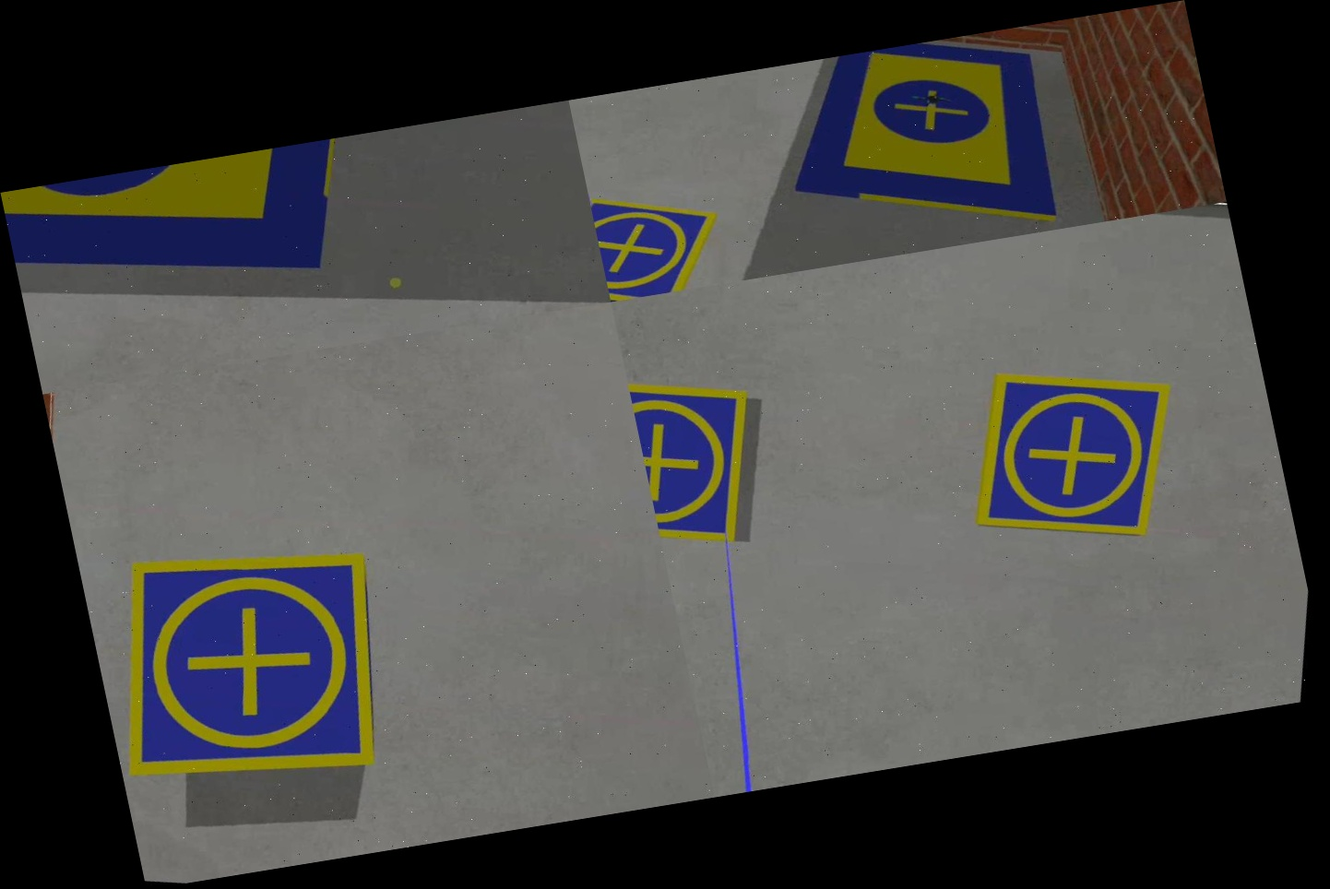large_base: (766, 19, 1107, 262), (1, 132, 404, 329)
small_base: (75, 497, 445, 833), (938, 340, 1205, 569), (624, 348, 787, 558), (588, 168, 737, 302)
